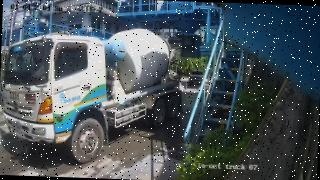cement_mixer_truck: (0, 28, 181, 162)
